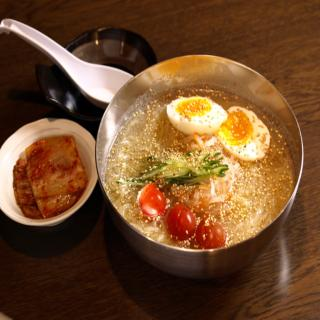tomato: (166, 200, 196, 240), (195, 216, 226, 247), (140, 186, 167, 212)
